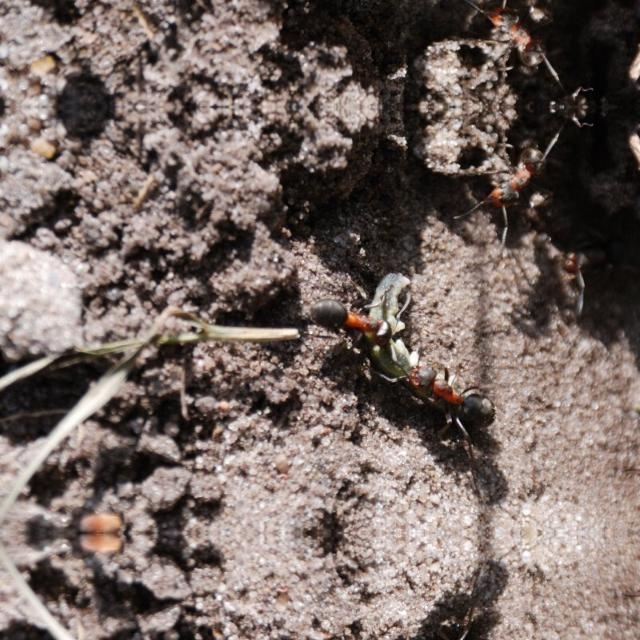Formica: (398, 354, 510, 438), (468, 134, 556, 222), (468, 0, 556, 76), (308, 286, 396, 350)
